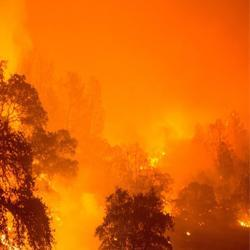fire: (1, 221, 30, 250), (149, 149, 168, 173), (238, 210, 250, 231)
